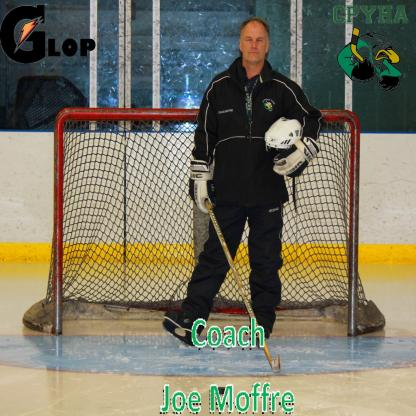Helmet: (267, 116, 310, 168)
